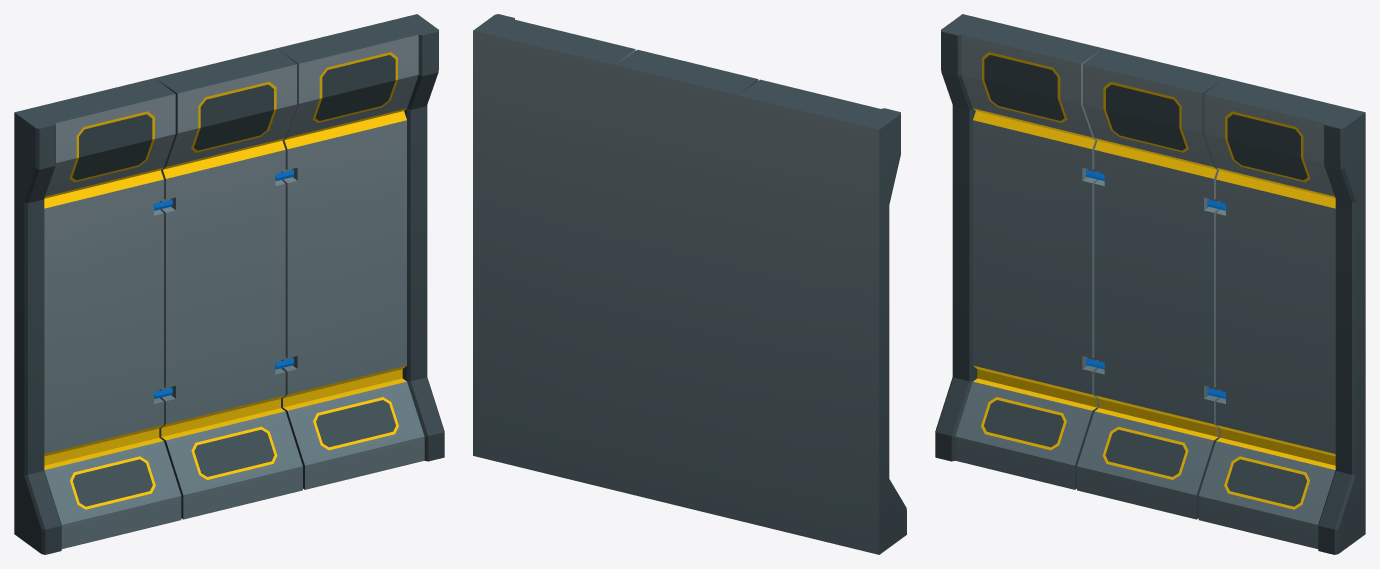
File: Wall_type_C_002.glb
The picture shows the model from 3 angles, left to right: view 1: azimuth 30°, elevation 25°; view 2: azimuth 150°, elevation 25°; view 3: azimuth 330°, elevation 25°; orthographic projection.
Visible parts, largest first — view 1: Wall_type_C_002; view 2: Wall_type_C_002; view 3: Wall_type_C_002.
Part boxes in pixels (<box>): Wall_type_C_002: <box>14,14,444,554</box>; Wall_type_C_002: <box>473,14,906,554</box>; Wall_type_C_002: <box>935,14,1365,554</box>.
Size of the model in its own units: 4 by 4 by 0.5.
2 materials, 2 textured.
